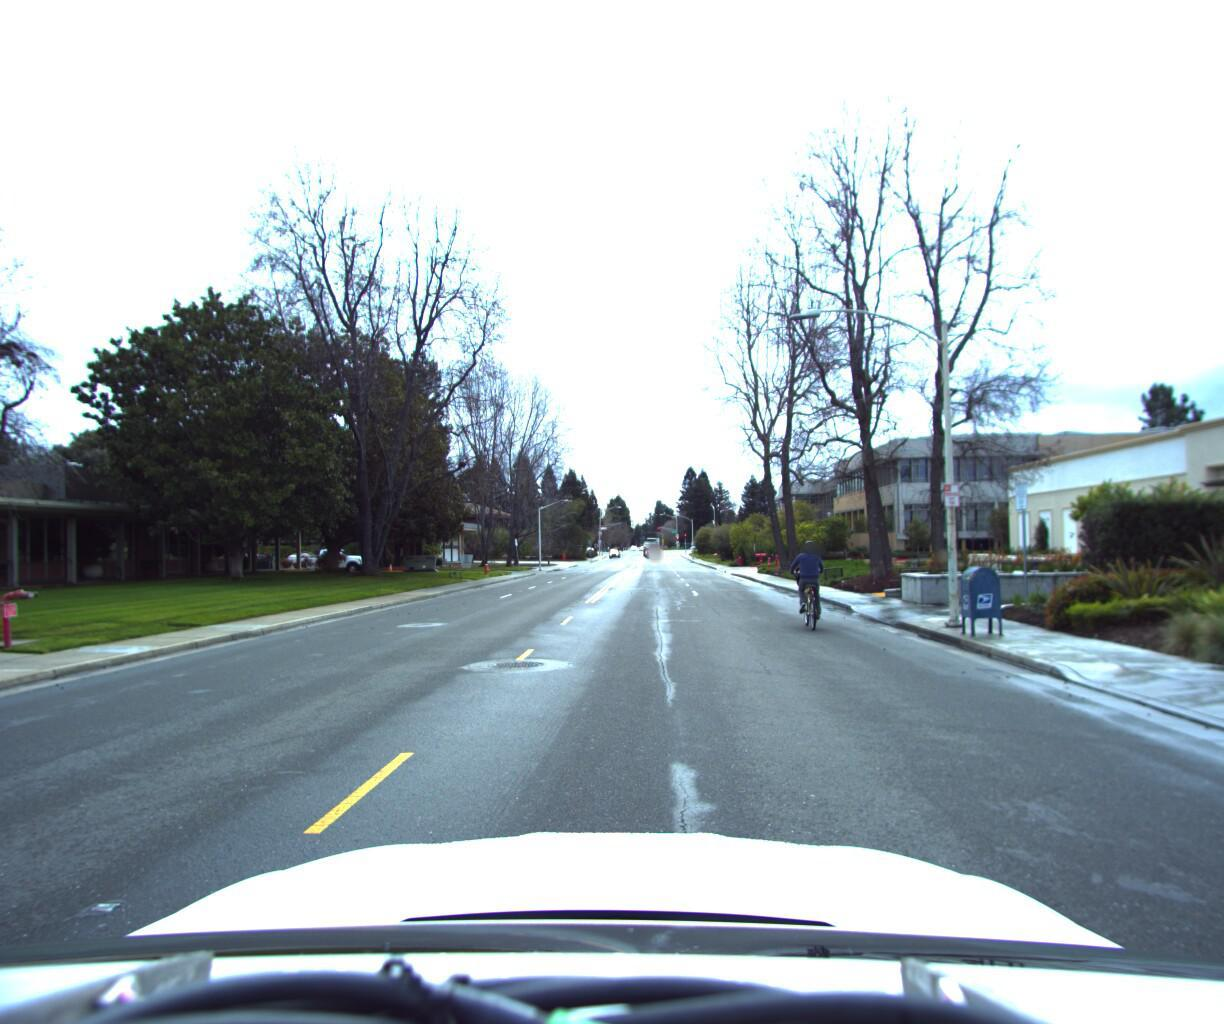bicycle: (783, 535, 835, 631)
